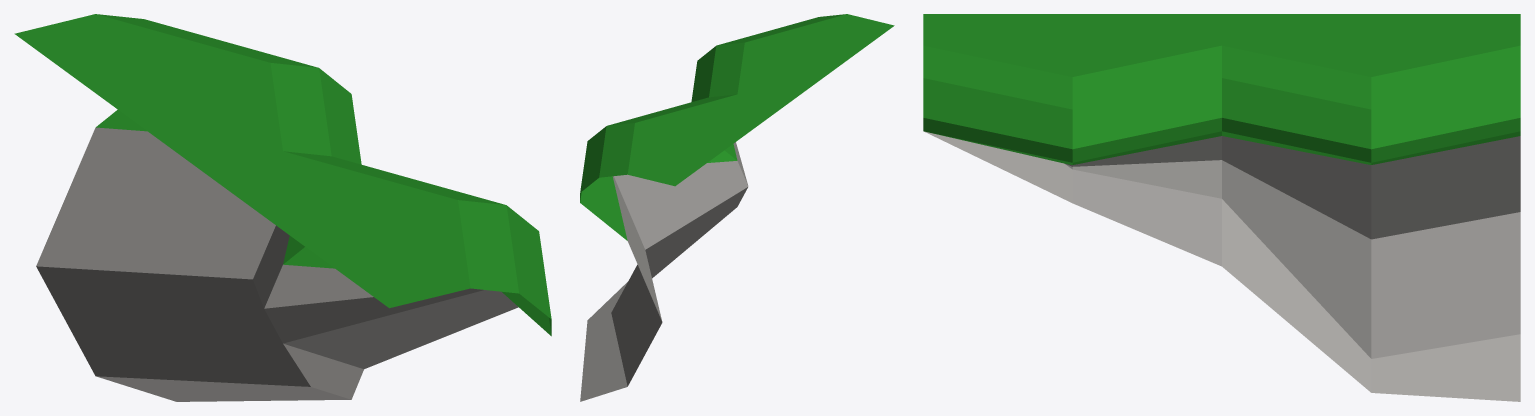
Rendered from Cliff_Terrain_Hill_Base_Top_Joined_Sharp.obj.
3 renders of one model, left to right at view 1: azimuth 30°, elevation 25°; view 2: azimuth 150°, elevation 25°; view 3: azimuth 270°, elevation 25°, orthographic. The views are drawn at different scales.
Parts seen in each view (by area): view 1: object1; view 2: object1; view 3: object1.
Part boxes in pixels (x1,y1,x2,y2): object1: (14, 14, 551, 401); object1: (580, 14, 894, 401); object1: (923, 14, 1520, 401).
Bounding box in the file's own units: 0.75 × 1.2 × 2.
